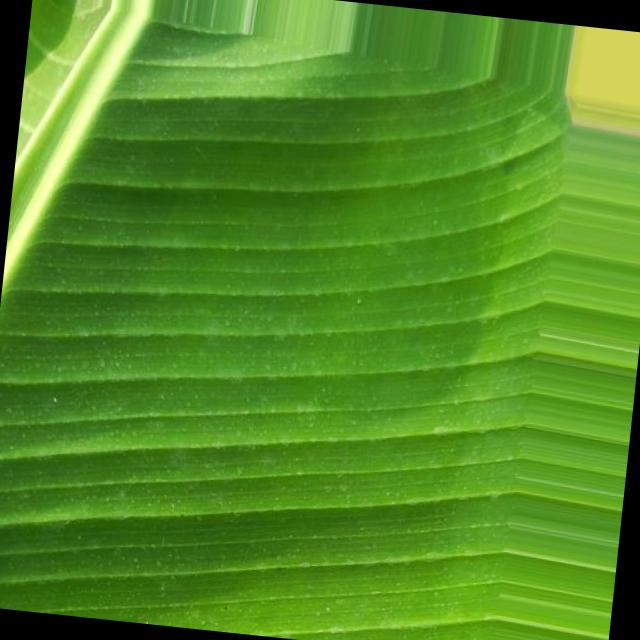Banana_Healthy: (98, 107, 553, 595)
